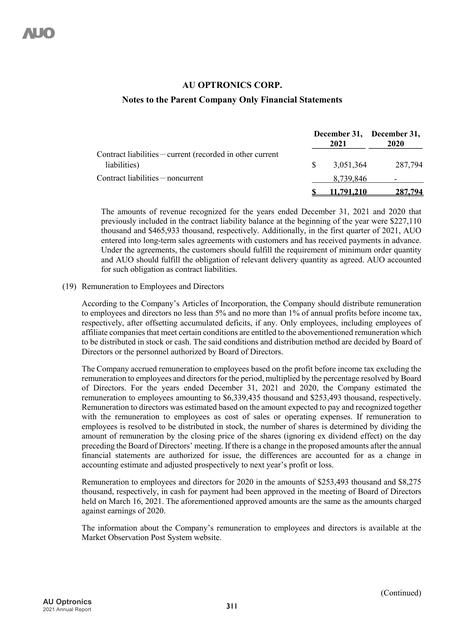box: (96, 131, 424, 199)
